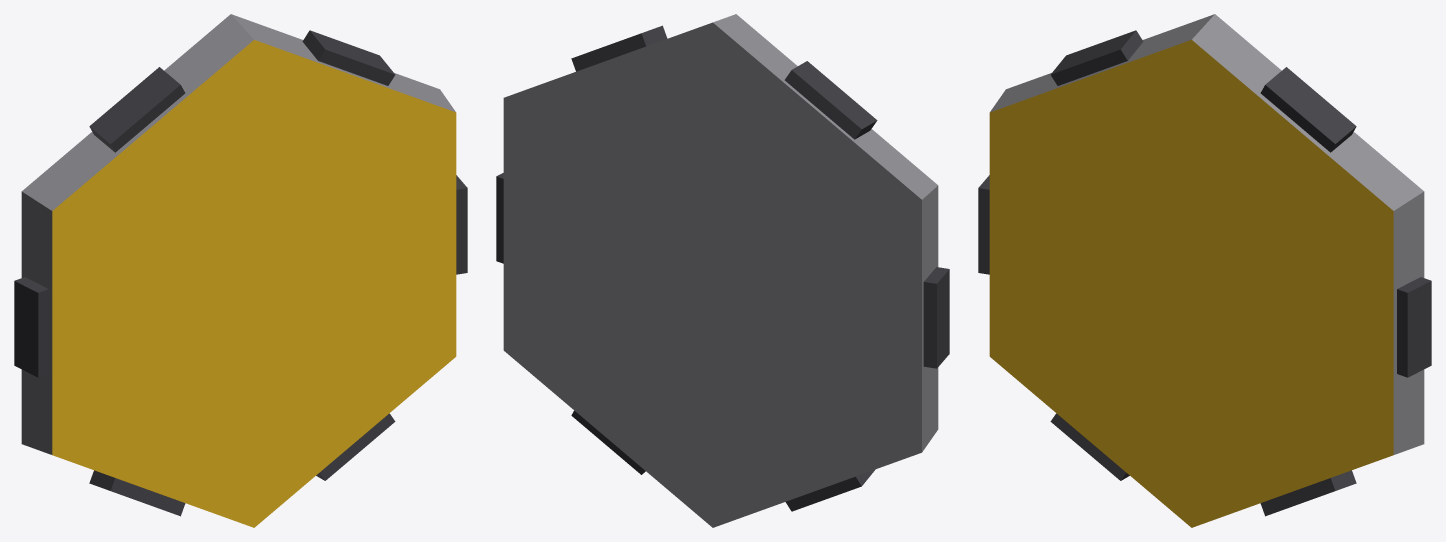
File: len_center.obj
The picture shows the model from 3 angles, left to right: view 1: azimuth 30°, elevation 25°; view 2: azimuth 150°, elevation 25°; view 3: azimuth 330°, elevation 25°; orthographic projection.
Visible parts, largest first — view 1: len_center; view 2: len_center; view 3: len_center.
Part boxes in pixels (left/top/right/bottom): len_center: left=14, top=14, right=467, bottom=527; len_center: left=496, top=14, right=949, bottom=527; len_center: left=978, top=14, right=1431, bottom=527.
Size of the model in its own units: 0.5438 by 0.596 by 0.05.
